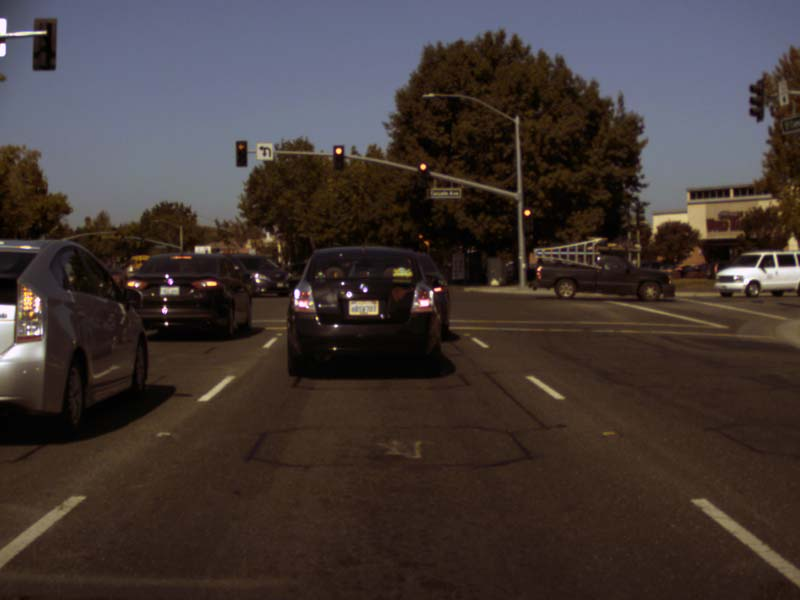Red: (414, 229, 435, 248), (235, 141, 247, 167), (522, 206, 534, 231), (417, 162, 428, 186), (333, 145, 343, 169)
